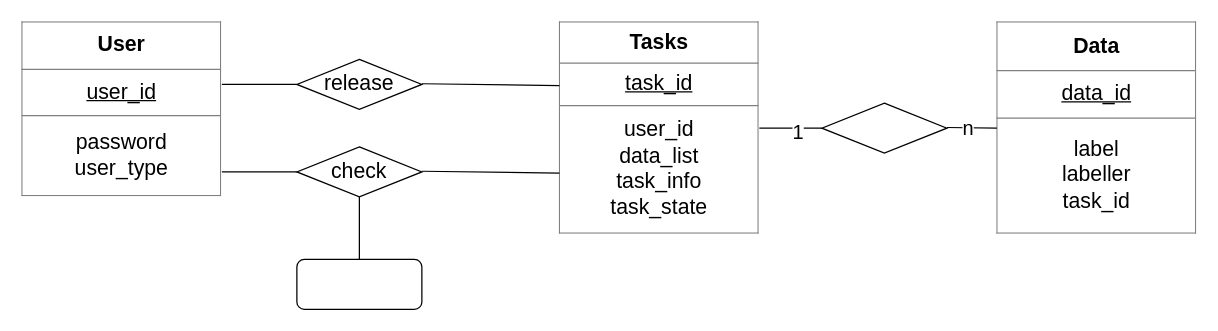
The diagram is 1218 pixels wide and 331 high, and some of its shapes have lost their labels. Here are the shapes that lost their labels. From the top down, the centre of each, then its label:
the point at 884,127: contains
the point at 359,283: recheck_id
